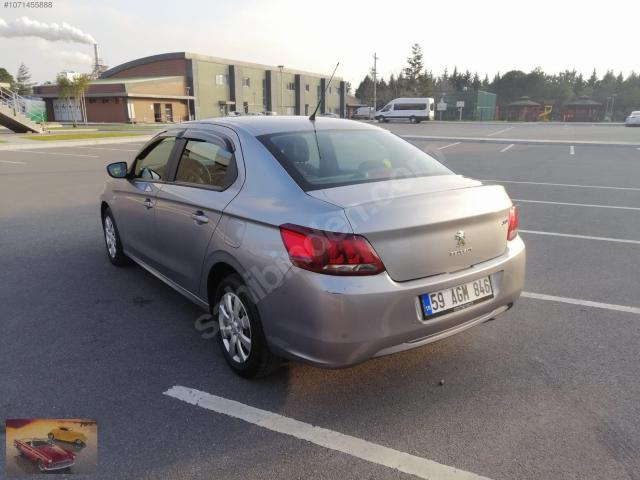plaka: (420, 276, 494, 320)
